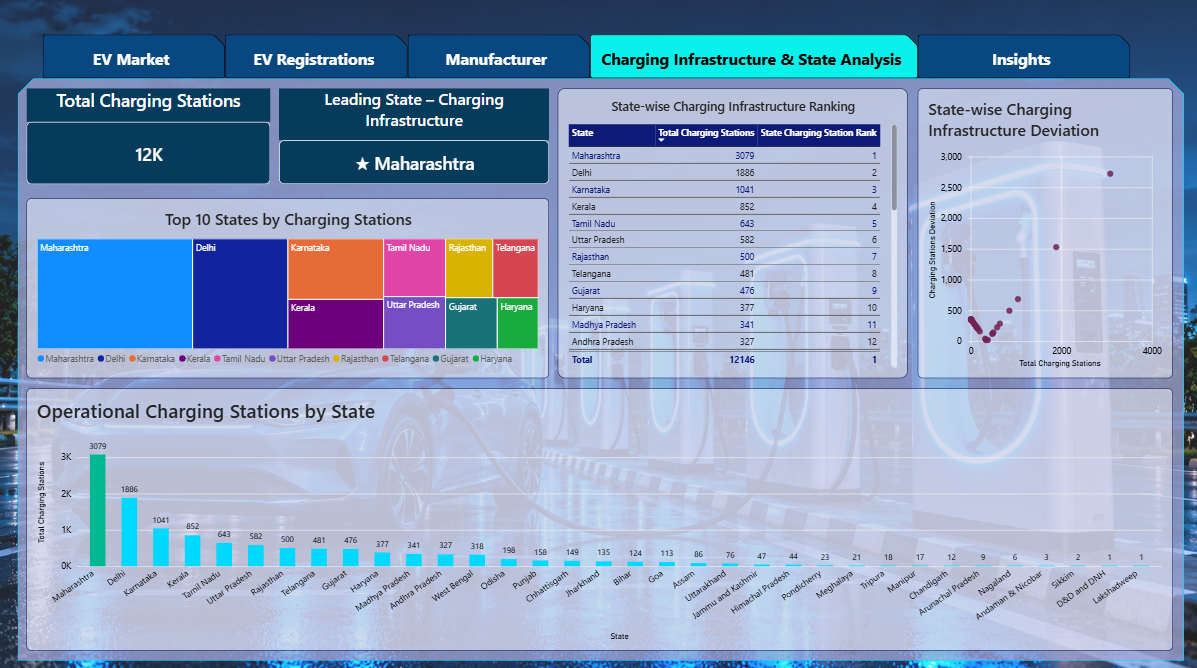

Layout of this report page (visuals, bound fields, positions):
{"tool":"powerbi","page":{"name":"Charging Infrastructure & State Analysis ","canvas":[1920,1080],"ordinal":3},"visuals":[{"type":"shape","box":[30,130,1866,932],"z":0},{"type":"cardVisual","title":"Total Charging Stations","fields":{"Data":["DAX_Measures_Tbl.Total Charging Stations"]},"box":[44,146,390,154],"z":1000},{"type":"treemap","title":"Top 10 States by Charging Stations","fields":{"Group":["DimState.State"],"Values":["DAX_Measures_Tbl.Total Charging Stations"]},"box":[44,322,836,288],"z":2000},{"type":"clusteredColumnChart","title":"Operational Charging Stations by State","fields":{"Category":["DimState.State"],"Y":["DAX_Measures_Tbl.Total Charging Stations"]},"box":[44,626,1834,420],"z":3000},{"type":"tableEx","title":"State-wise Charging Infrastructure Ranking","fields":{"Values":["FactChargingInfrastructure_Snapshot.State","DAX_Measures_Tbl.Total Charging Stations","DAX_Measures_Tbl.State Charging Station Rank"]},"box":[894,146,560,464],"z":4000},{"type":"scatterChart","title":"State-wise Charging Infrastructure Deviation","fields":{"Category":["DimState.State"],"X":["DAX_Measures_Tbl.Total Charging Stations"],"Y":["DAX_Measures_Tbl.Charging Stations Deviation"]},"box":[1470,146,408,464],"z":5000},{"type":"cardVisual","title":"Leading State – Charging Infrastructure","fields":{"Data":["DAX_Measures_Tbl.Highest Charging State Card"]},"box":[448,146,432,154],"z":6000},{"type":"actionButton","box":[70,60,291.7,70],"z":7000},{"type":"actionButton","box":[362,60,291.7,70],"z":8000},{"type":"actionButton","box":[654,60,291.7,70],"z":9000},{"type":"actionButton","box":[946,60,524,70],"z":10000},{"type":"actionButton","box":[1470,60,340,70],"z":11000}]}

Visuals, with their boxes in screenshot pixels (x1, y1, x2, y2), scaled from the page's 1920x1080 canvas onto the 1197x668 screenshot:
shape: bbox=(19, 80, 1182, 657)
"Total Charging Stations" cardVisual: bbox=(27, 90, 271, 186)
"Top 10 States by Charging Stations" treemap: bbox=(27, 199, 549, 377)
"Operational Charging Stations by State" clusteredColumnChart: bbox=(27, 387, 1171, 647)
"State-wise Charging Infrastructure Ranking" tableEx: bbox=(557, 90, 906, 377)
"State-wise Charging Infrastructure Deviation" scatterChart: bbox=(916, 90, 1171, 377)
"Leading State – Charging Infrastructure" cardVisual: bbox=(279, 90, 549, 186)
actionButton: bbox=(44, 37, 225, 80)
actionButton: bbox=(226, 37, 408, 80)
actionButton: bbox=(408, 37, 590, 80)
actionButton: bbox=(590, 37, 916, 80)
actionButton: bbox=(916, 37, 1128, 80)
